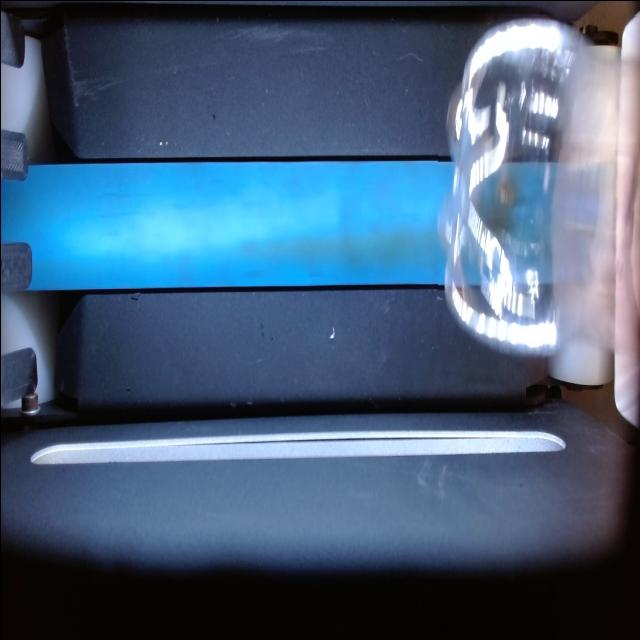bottom: (437, 15, 640, 365)
